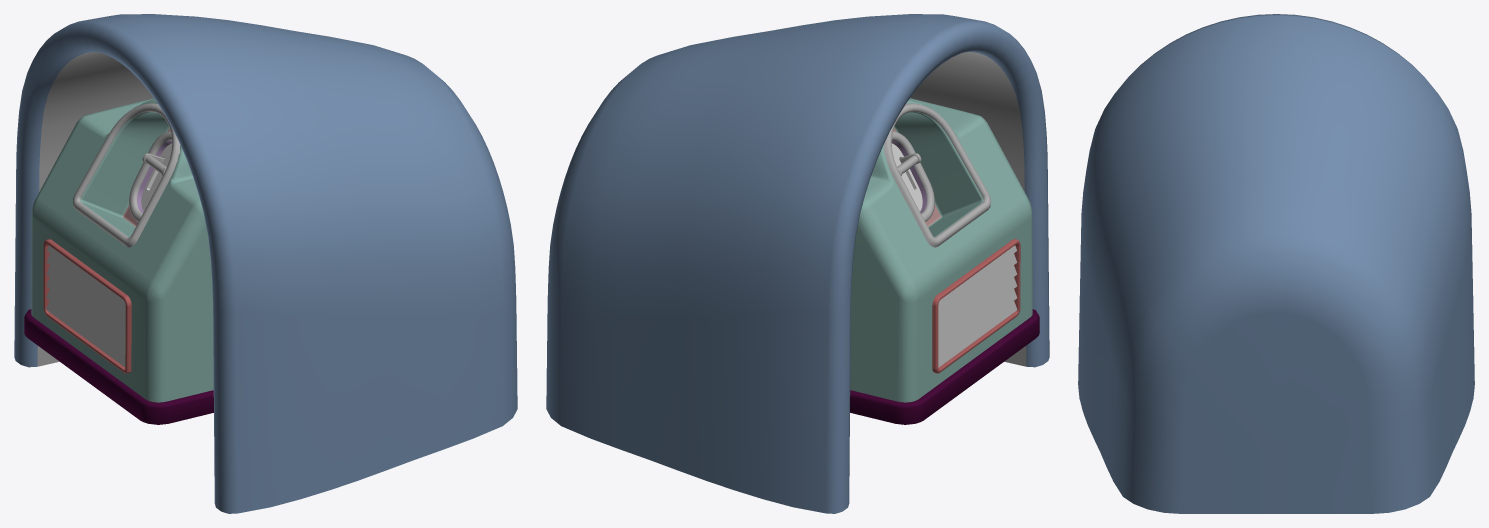
The model's file is KikPanel.fbx.
3 renders of one model, left to right at view 1: azimuth 30°, elevation 25°; view 2: azimuth 150°, elevation 25°; view 3: azimuth 270°, elevation 25°, orthographic. The views are drawn at different scales.
Parts seen in each view (by area): view 1: Base, Panel, Vent, Frame, BaseLever; view 2: Base, Panel, Vent, Frame, BaseLever; view 3: Base.
Part boxes in pixels (left/top/right/bottom): Base: left=14, top=14, right=517, bottom=513; Panel: left=24, top=98, right=213, bottom=424; Vent: left=43, top=239, right=131, bottom=373; Frame: left=73, top=103, right=180, bottom=247; BaseLever: left=129, top=131, right=172, bottom=221; Base: left=546, top=14, right=1049, bottom=513; Panel: left=850, top=98, right=1039, bottom=424; Vent: left=932, top=239, right=1020, bottom=373; Frame: left=884, top=103, right=991, bottom=247; BaseLever: left=891, top=131, right=934, bottom=221; Base: left=1078, top=14, right=1474, bottom=513.
Size of the model in its own units: 227 by 231 by 234.
